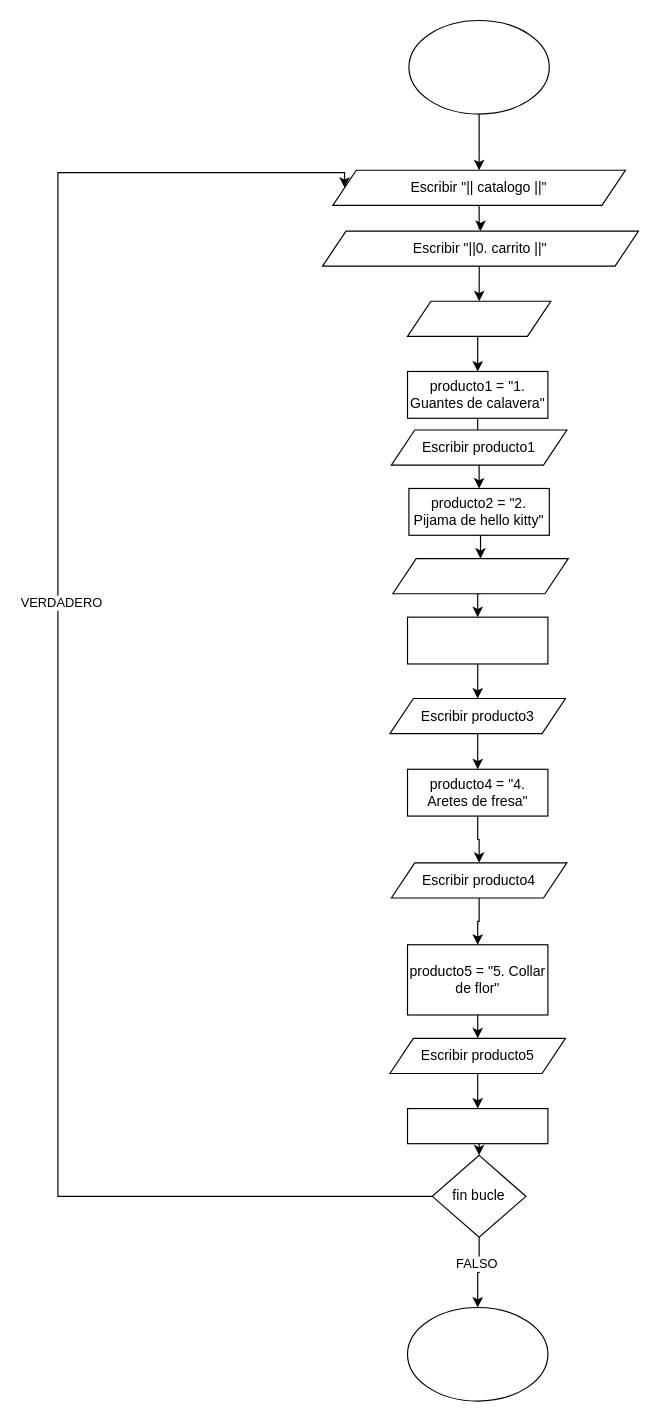
Some shapes in this 660 by 1422 pixel diagram are drawn without their labels. Each missing label, with the centre of its shape:
codigo...: point (477, 1125)
Escribir "": point (478, 318)
Escribir producto2: point (480, 576)
fin: point (477, 1353)
inicio: point (478, 66)
producto3 = "3. Pantalon de cuadros": point (477, 640)
